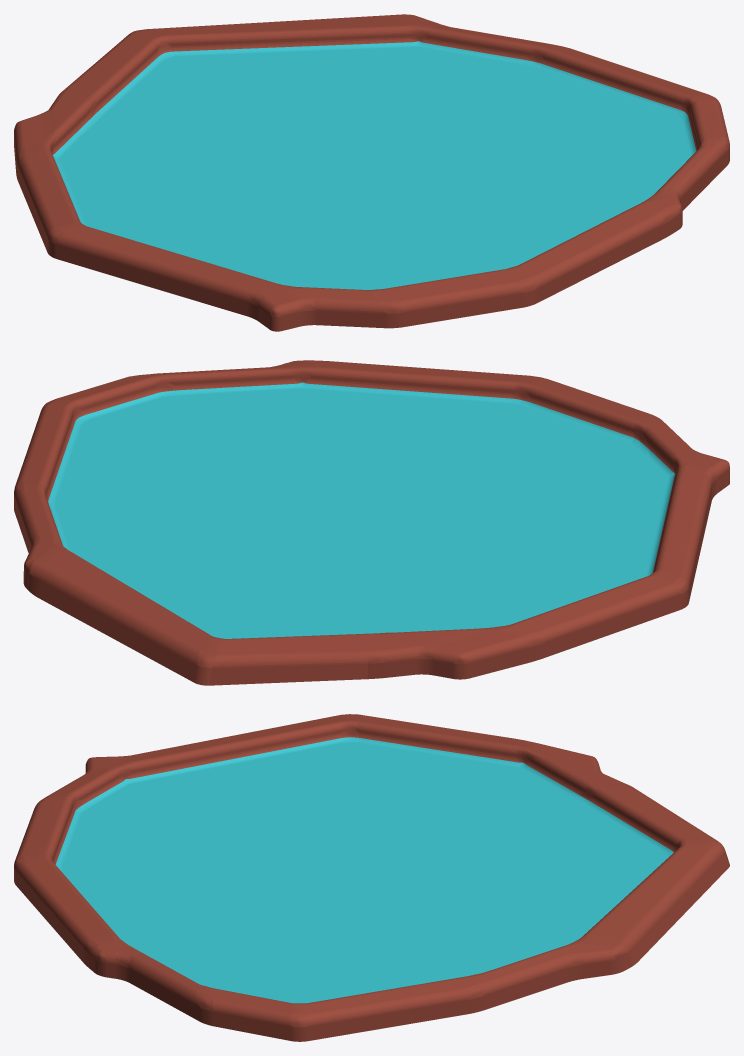
File: lake.fbx
3 renders of one model, top to bottom at view 1: azimuth 30°, elevation 25°; view 2: azimuth 150°, elevation 25°; view 3: azimuth 270°, elevation 25°, orthographic. The views are drawn at different scales.
Visible parts, largest first — view 1: Cube; view 2: Cube; view 3: Cube.
Part boxes in pixels (x1=…): Cube: x1=14, y1=14, x2=729, y2=331; Cube: x1=14, y1=360, x2=729, y2=685; Cube: x1=14, y1=714, x2=729, y2=1041.
Bounding box in the file's own units: 2429 × 95.75 × 2386.
